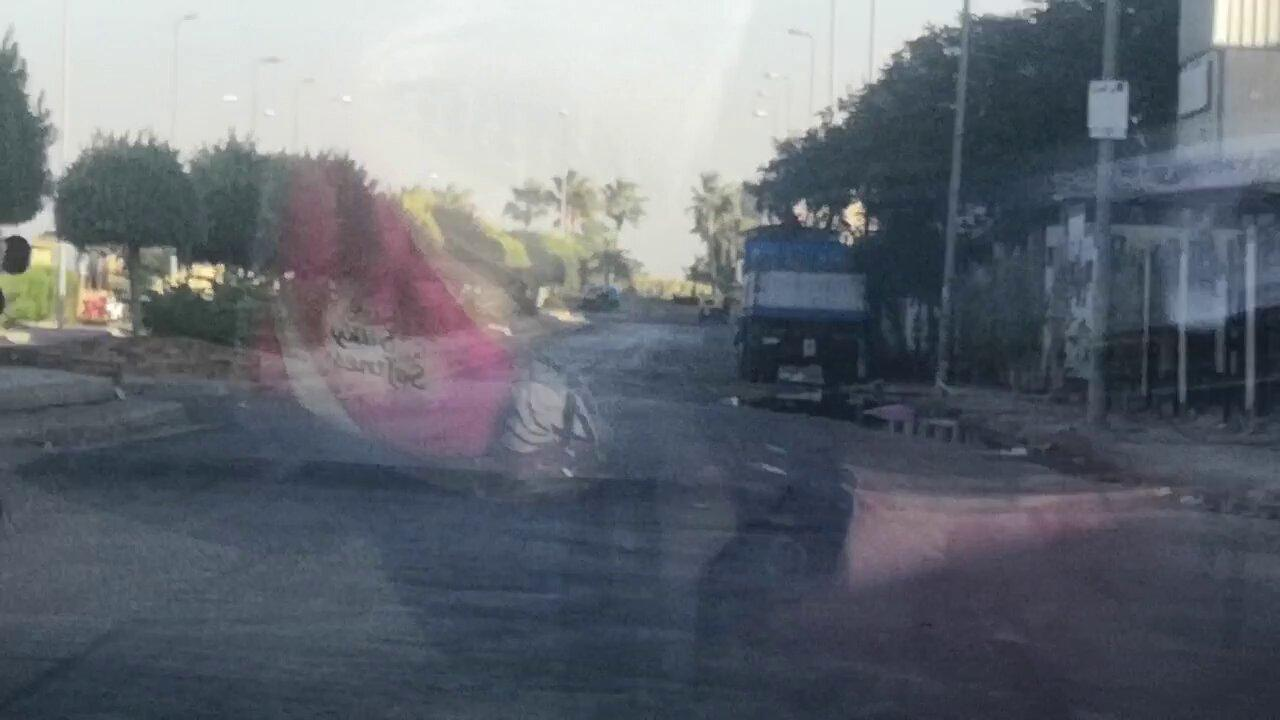Bump: (37, 435, 1158, 562)
